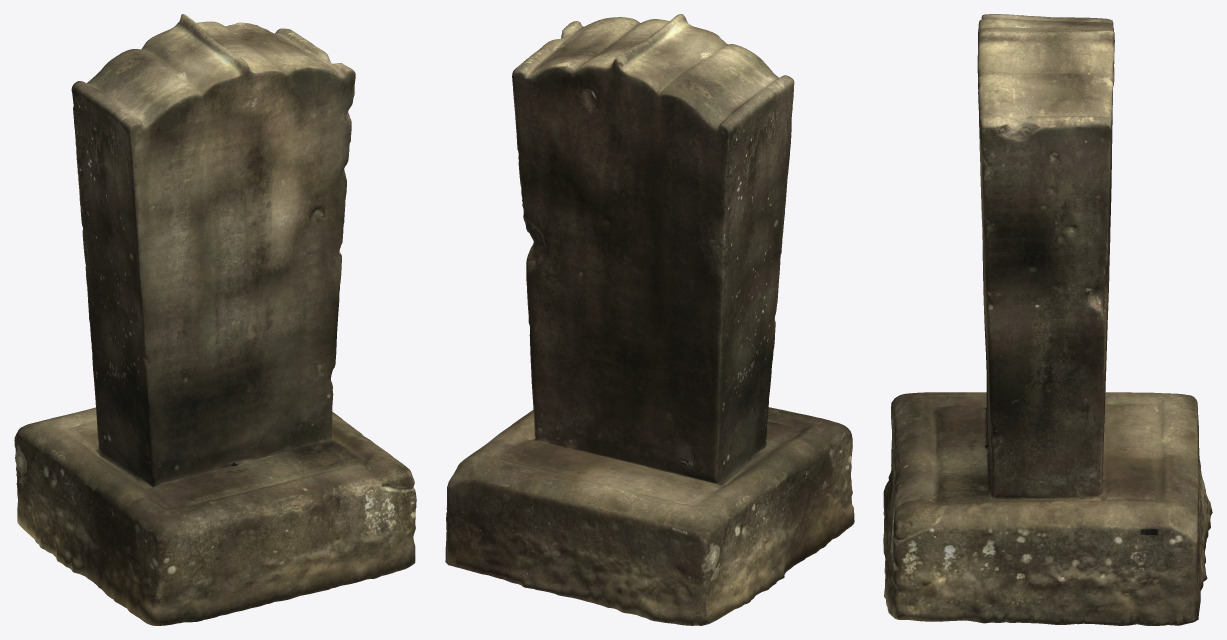
File: MysonMuseum_biadatheki12-13-03msd318_final.glb
3 renders of one model, left to right at view 1: azimuth 30°, elevation 25°; view 2: azimuth 150°, elevation 25°; view 3: azimuth 270°, elevation 25°, orthographic. The views are drawn at different scales.
Bounding box in the file's own units: 1.06 × 1.85 × 1.05.
1 material, 1 textured.
